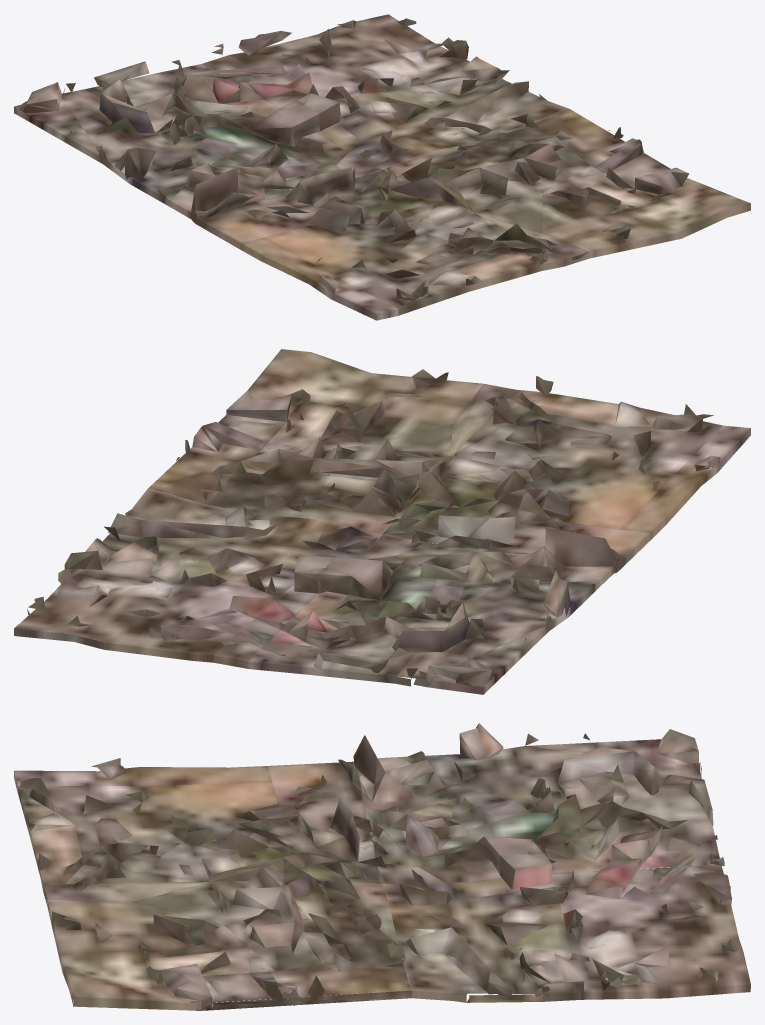
The picture shows the model from 3 angles, top to bottom: view 1: azimuth 30°, elevation 25°; view 2: azimuth 150°, elevation 25°; view 3: azimuth 270°, elevation 25°; orthographic projection. The views are drawn at different scales.
Parts seen in each view (by area): view 1: Mesh_0; view 2: Mesh_0; view 3: Mesh_0.
Part boxes in pixels (x1,y1,x2,y2): Mesh_0: (14,14,750,320); Mesh_0: (14,349,750,694); Mesh_0: (14,723,750,1010).
Bounding box in the file's own units: 532 × 61.88 × 659.
Materials: 1 (1 with a texture image).
